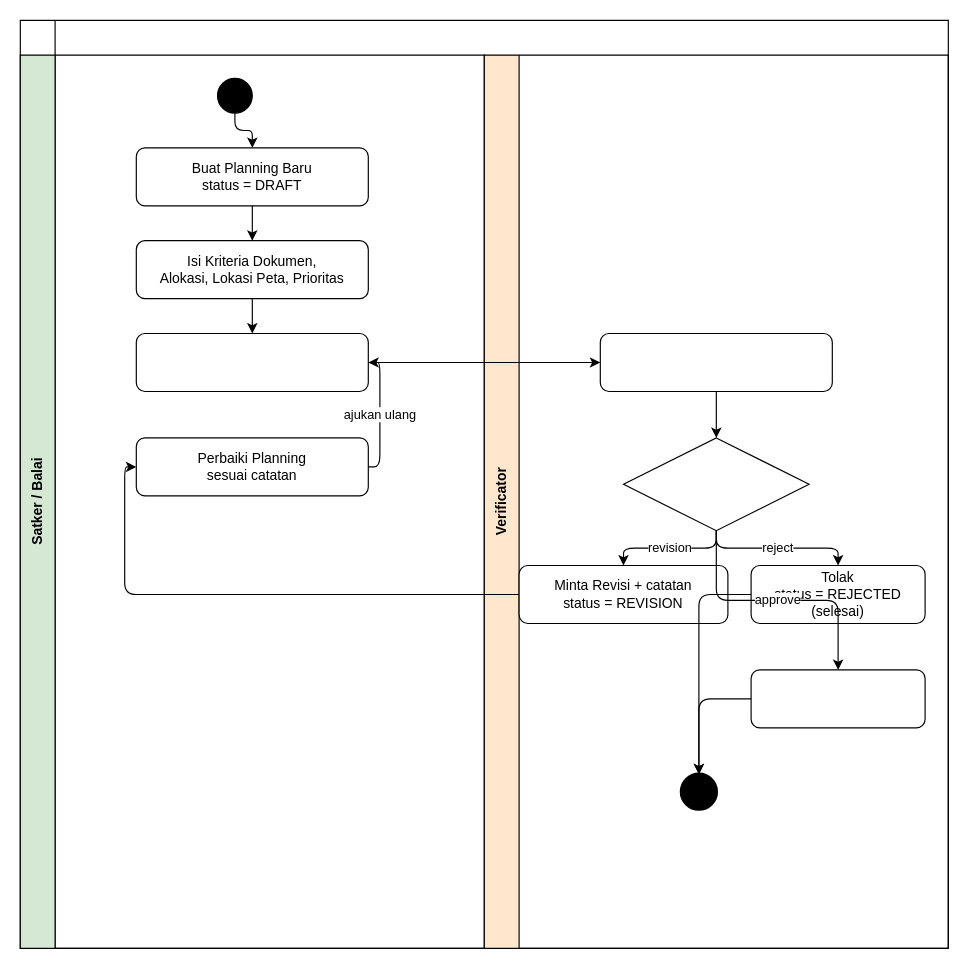
Some shapes in this 969 by 969 pixel diagram are drawn without their labels. The shapes that lost their labels are listed below. From the top down, each one's centre as x and y in pixels, then its label:
At point (251, 362): "Submit Planning status = SUBMITTED".
At point (715, 362): "Review Planning".
At point (715, 484): "Keputusan?".
At point (837, 698): "Setujui status = APPROVED (selesai)".
